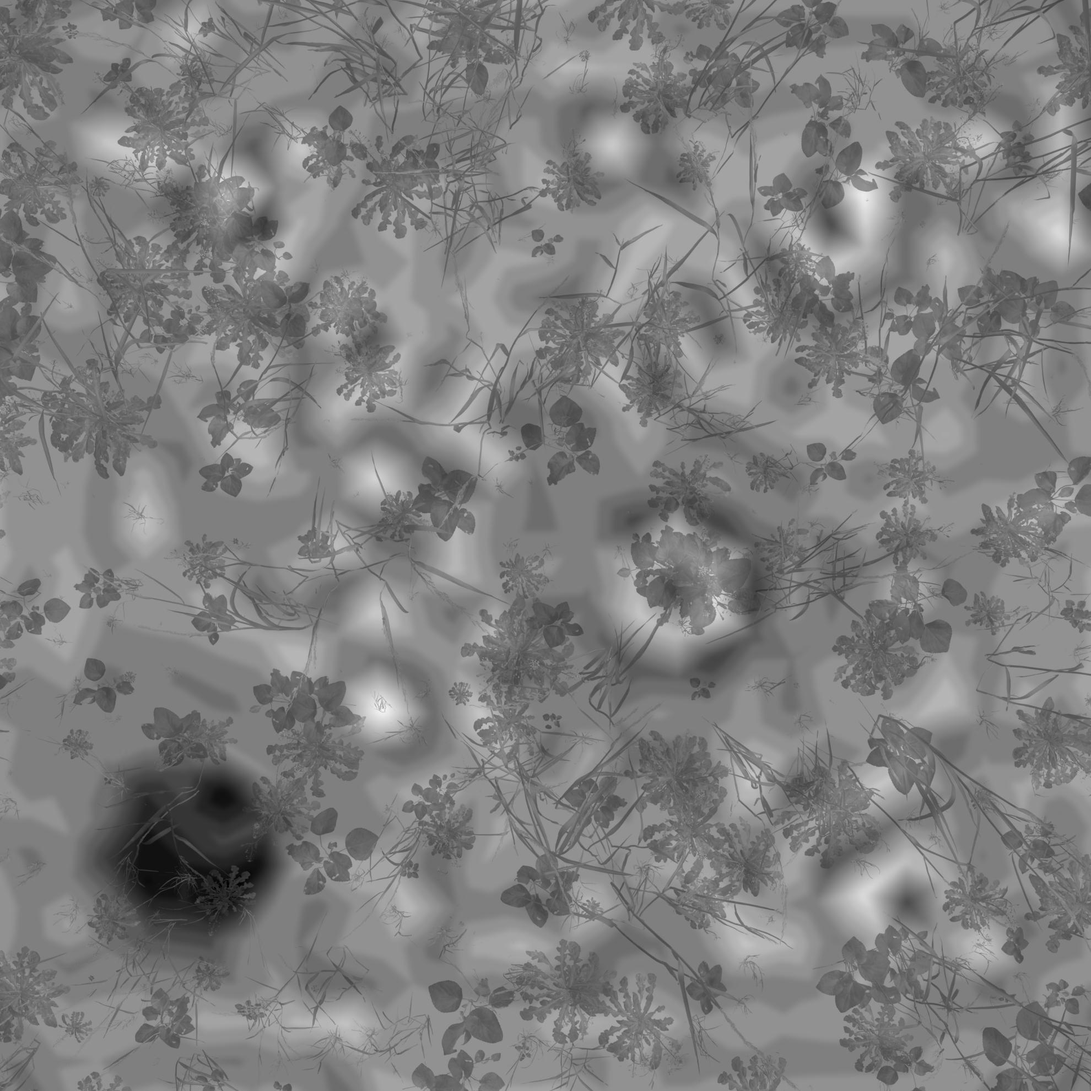landmine: (577, 489, 768, 688), (95, 767, 281, 934)
